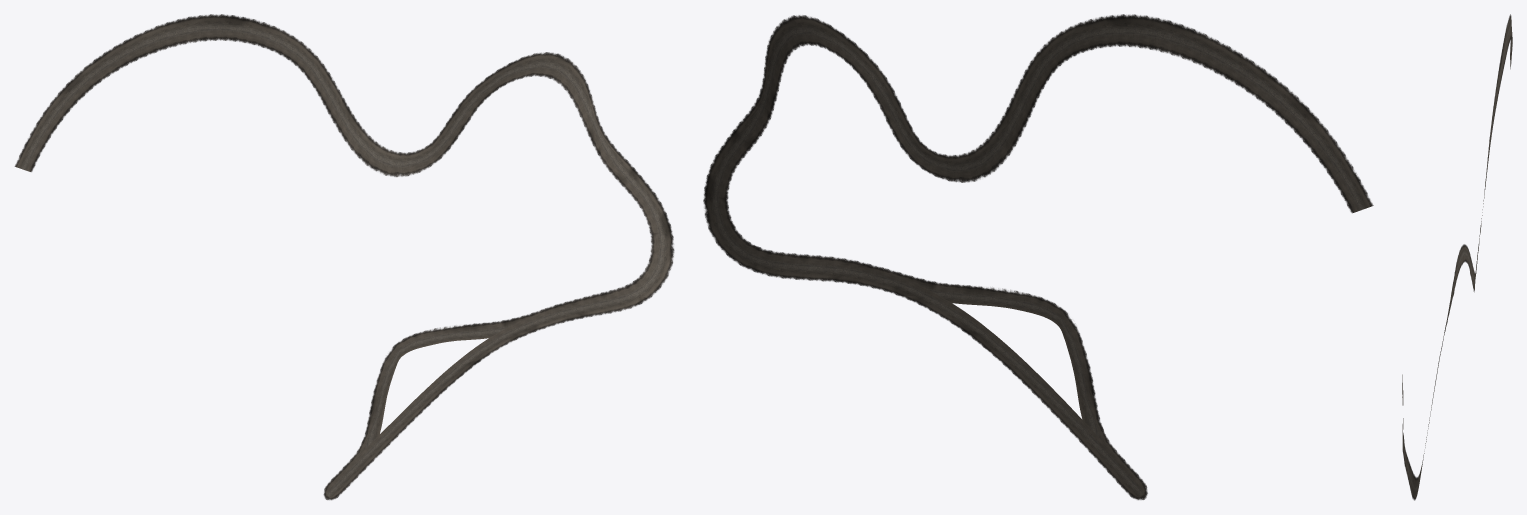
File: put_zemljani.glb
3 views of the same model, side by side, from view 1: azimuth 30°, elevation 25°; view 2: azimuth 150°, elevation 25°; view 3: azimuth 270°, elevation 25° (orthographic). The views are drawn at different scales.
Parts seen in each view (by area): view 1: Background_Tree_Atlas.025_Dirt_Road_0; view 2: Background_Tree_Atlas.025_Dirt_Road_0; view 3: Background_Tree_Atlas.025_Dirt_Road_0.
Part boxes in pixels (left/top/right/bottom): Background_Tree_Atlas.025_Dirt_Road_0: left=14, top=14, right=674, bottom=500; Background_Tree_Atlas.025_Dirt_Road_0: left=703, top=14, right=1373, bottom=499; Background_Tree_Atlas.025_Dirt_Road_0: left=1402, top=14, right=1512, bottom=500.
Size of the model in its own units: 226 by 164 by 41.06.
1 material, 1 textured.
